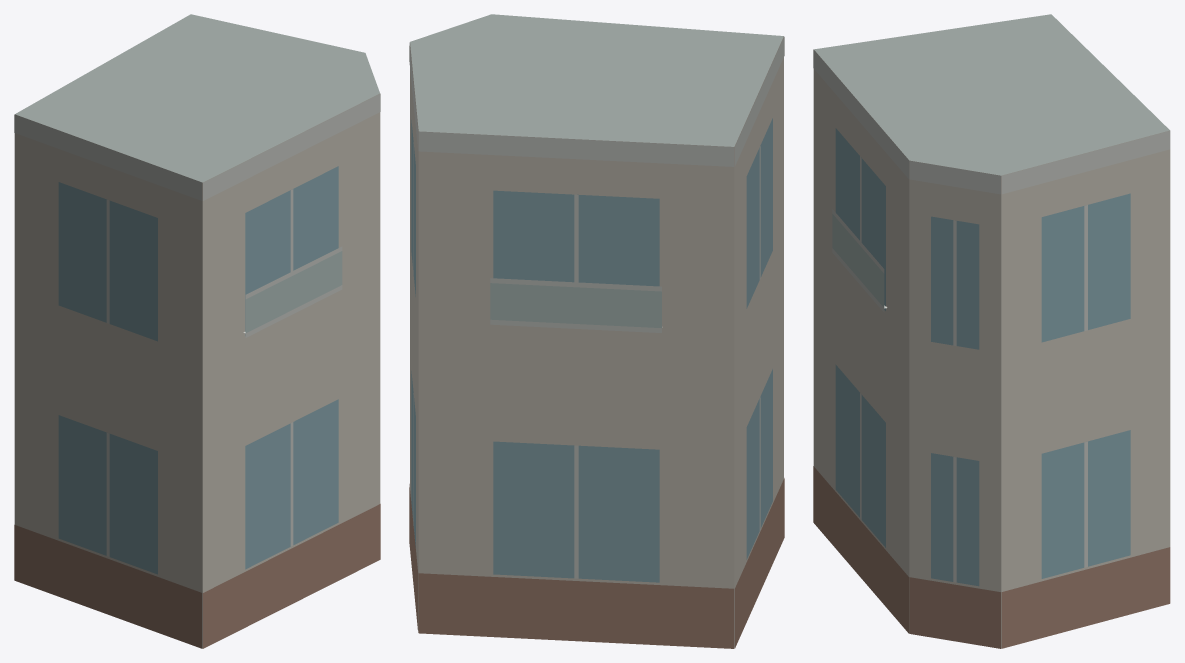
The model's file is survey-upis-32750596.glb.
3 renders of one model, left to right at view 1: azimuth 30°, elevation 25°; view 2: azimuth 150°, elevation 25°; view 3: azimuth 270°, elevation 25°, orthographic. The views are drawn at different scales.
Visible parts, largest first — view 1: survey-upis-32750596.tmp; view 2: survey-upis-32750596.tmp; view 3: survey-upis-32750596.tmp.
Boxes of the visible parts, x1,y1,x2,y2 form: survey-upis-32750596.tmp: (14,14,380,648); survey-upis-32750596.tmp: (409,14,784,648); survey-upis-32750596.tmp: (813,14,1170,648).
Bounding box in the file's own units: 4.48 × 6.1 × 4.18.
